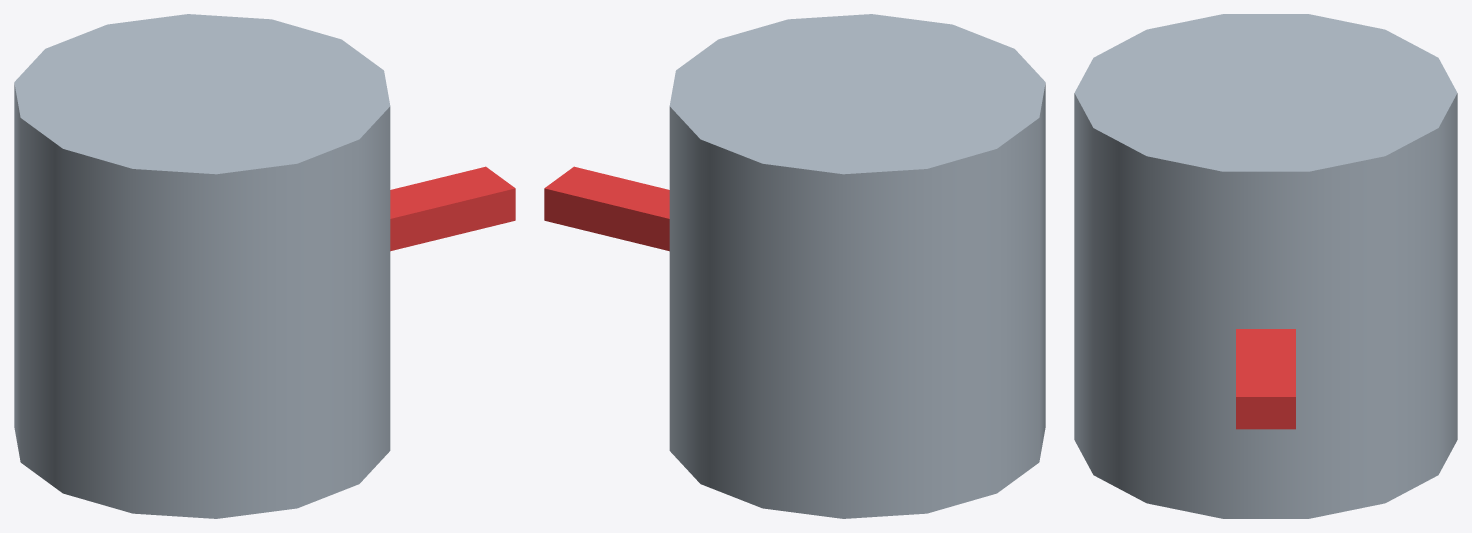
The model's file is fit-start-collar-damper.glb.
3 renders of one model, left to right at view 1: azimuth 30°, elevation 25°; view 2: azimuth 150°, elevation 25°; view 3: azimuth 270°, elevation 25°, orthographic.
Visible parts, largest first — view 1: hvac-fitting-start-collar-damper; view 2: hvac-fitting-start-collar-damper; view 3: hvac-fitting-start-collar-damper.
Part boxes in pixels (x1,y1,x2,y2): hvac-fitting-start-collar-damper: [14, 14, 515, 518]; hvac-fitting-start-collar-damper: [544, 14, 1045, 518]; hvac-fitting-start-collar-damper: [1074, 14, 1457, 518].
Bounding box in the file's own units: 0.223 × 0.16 × 0.16.
